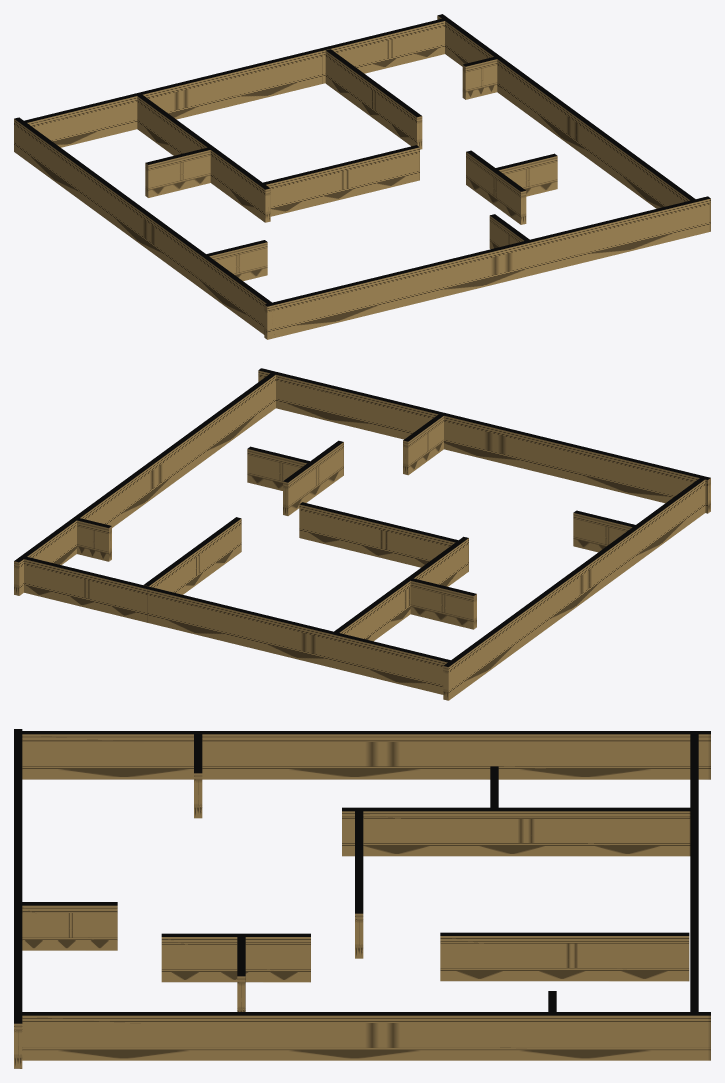
The model's file is Easywall.fbx.
3 views of the same model, one above another, from view 1: azimuth 30°, elevation 25°; view 2: azimuth 150°, elevation 25°; view 3: azimuth 270°, elevation 25° (orthographic). The views are drawn at different scales.
Parts seen in each view (by area): view 1: Wall_1__2_, Wall_1__1_, Wall_1__3_, Wall_1, Wall_1__11_, Wall_1__6_, Wall_1__4_, Wall_1__7_, Wall_1__13_, Wall_1__12_, Wall_1__10_, Wall_1__14_ (+2 smaller); view 2: Wall_1__2_, Wall_1__3_, Wall_1__1_, Wall_1, Wall_1__11_, Wall_1__4_, Wall_1__6_, Wall_1__7_, Wall_1__13_, Wall_1__12_, Wall_1__10_, Wall_1__14_ (+2 smaller); view 3: Wall_1, Wall_1__1_, Wall_1__6_, Wall_1__7_, Wall_1__12_, Wall_1__8_, Wall_1__2_, Wall_1__3_, Wall_1__11_, Wall_1__14_, Wall_1__4_, Wall_1__10_.
Part boxes in pixels (x1=…): Wall_1__2_: x1=264, y1=196, x2=710, y2=339; Wall_1__1_: x1=14, y1=117, x2=274, y2=334; Wall_1__3_: x1=19, y1=48, x2=322, y2=147; Wall_1: x1=437, y1=14, x2=698, y2=208; Wall_1__11_: x1=263, y1=145, x2=419, y2=216; Wall_1__6_: x1=137, y1=95, x2=270, y2=222; Wall_1__4_: x1=320, y1=18, x2=447, y2=83; Wall_1__7_: x1=325, y1=49, x2=422, y2=149; Wall_1__13_: x1=145, y1=147, x2=211, y2=197; Wall_1__12_: x1=466, y1=150, x2=526, y2=224; Wall_1__10_: x1=491, y1=153, x2=557, y2=196; Wall_1__14_: x1=202, y1=240, x2=267, y2=281; Wall_1__2_: x1=258, y1=368, x2=710, y2=513; Wall_1__3_: x1=147, y1=587, x2=453, y2=694; Wall_1__1_: x1=443, y1=476, x2=707, y2=700; Wall_1: x1=14, y1=371, x2=278, y2=595; Wall_1__11_: x1=299, y1=502, x2=460, y2=567; Wall_1__4_: x1=20, y1=556, x2=150, y2=622; Wall_1__6_: x1=334, y1=536, x2=468, y2=641; Wall_1__7_: x1=144, y1=517, x2=241, y2=594; Wall_1__13_: x1=410, y1=578, x2=476, y2=629; Wall_1__12_: x1=283, y1=440, x2=343, y2=515; Wall_1__10_: x1=247, y1=446, x2=313, y2=490; Wall_1__14_: x1=573, y1=510, x2=640, y2=552; Wall_1: x1=14, y1=1012, x2=710, y2=1060; Wall_1__1_: x1=14, y1=731, x2=710, y2=779; Wall_1__6_: x1=342, y1=807, x2=690, y2=856; Wall_1__7_: x1=440, y1=932, x2=689, y2=981; Wall_1__12_: x1=161, y1=933, x2=310, y2=982; Wall_1__8_: x1=22, y1=902, x2=117, y2=950; Wall_1__2_: x1=14, y1=729, x2=22, y2=1068; Wall_1__3_: x1=690, y1=731, x2=698, y2=930; Wall_1__11_: x1=355, y1=810, x2=363, y2=958; Wall_1__14_: x1=194, y1=732, x2=202, y2=818; Wall_1__4_: x1=690, y1=931, x2=698, y2=1015; Wall_1__10_: x1=237, y1=934, x2=245, y2=1011.
Size of the model in its own units: 8400 by 600 by 8400.
1 material, 1 textured.
